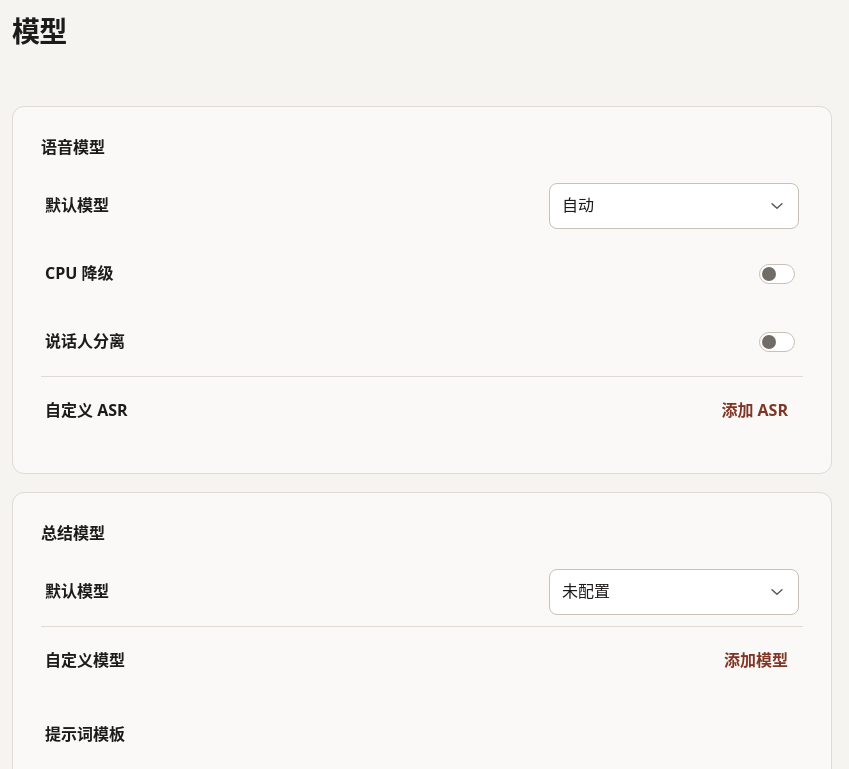
Test: ModelSettingsPage › keeps an unverified ASR visible but unavailable
What coordinates should you click on to do the following:
click the dropdown named "默认语音模型"
I would click on:
 (674, 206)
Its box is [549,183,799,229].
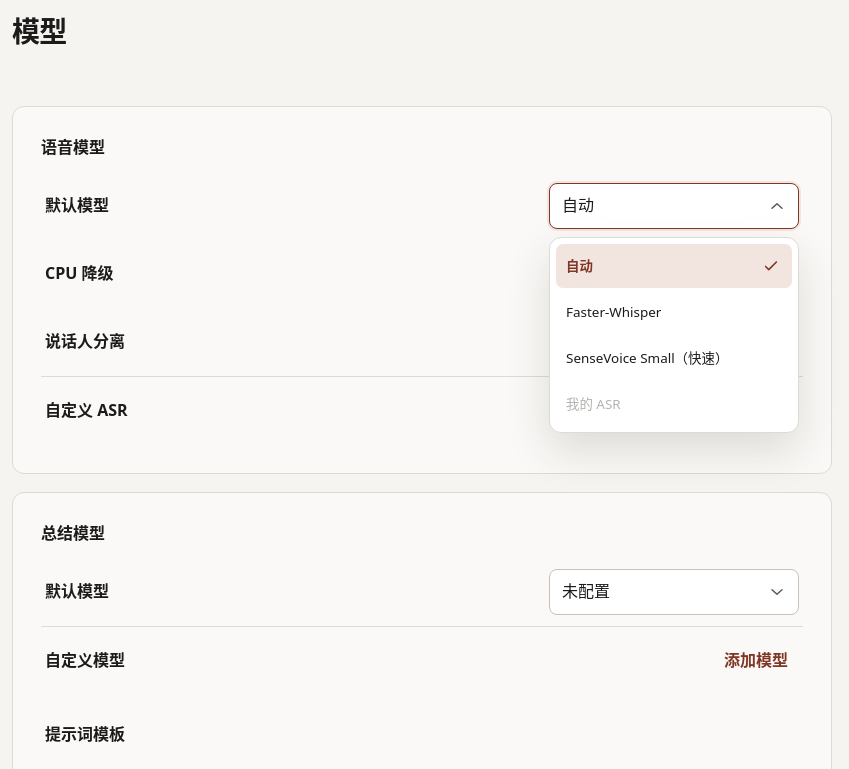
Expected: the option "我的 ASR" is disabled, [556,382,792,426]
